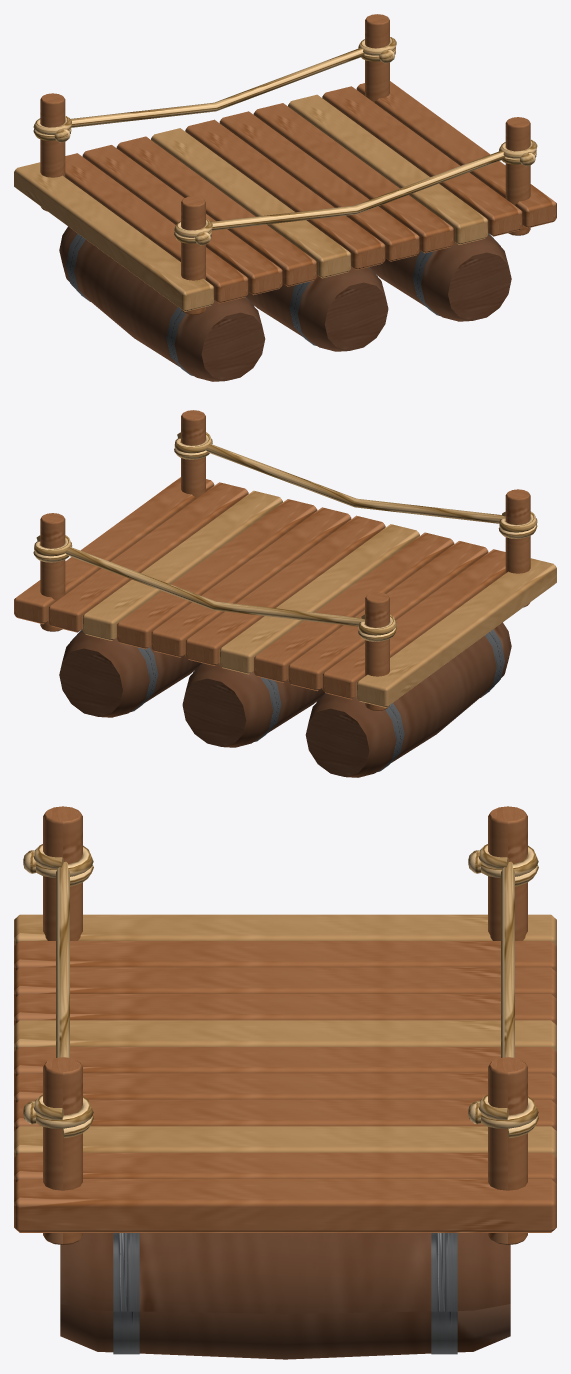
File: SM_FloatingPlatform.glb
3 views of the same model, one above another, from view 1: azimuth 30°, elevation 25°; view 2: azimuth 150°, elevation 25°; view 3: azimuth 270°, elevation 25° (orthographic). The views are drawn at different scales.
Visible parts, largest first — view 1: SM_FloatingPlatform; view 2: SM_FloatingPlatform; view 3: SM_FloatingPlatform.
Boxes of the visible parts, x1=… form: SM_FloatingPlatform: x1=14, y1=14, x2=556, y2=381; SM_FloatingPlatform: x1=14, y1=410, x2=556, y2=777; SM_FloatingPlatform: x1=14, y1=806, x2=556, y2=1359.
Bounding box in the file's own units: 2.59 × 1.32 × 2.05.
Materials: 1 (1 with a texture image).
